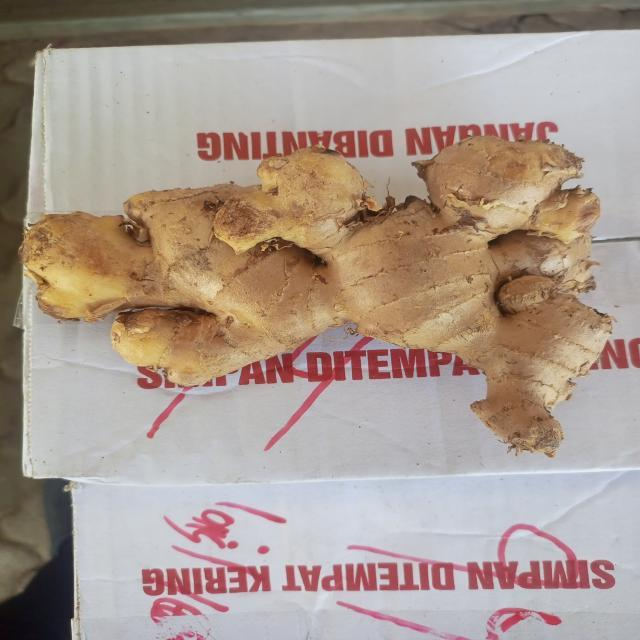ginger: (39, 144, 596, 438)
